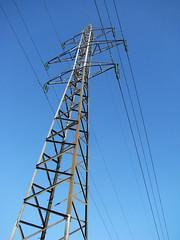power_tower: (8, 20, 126, 240)
